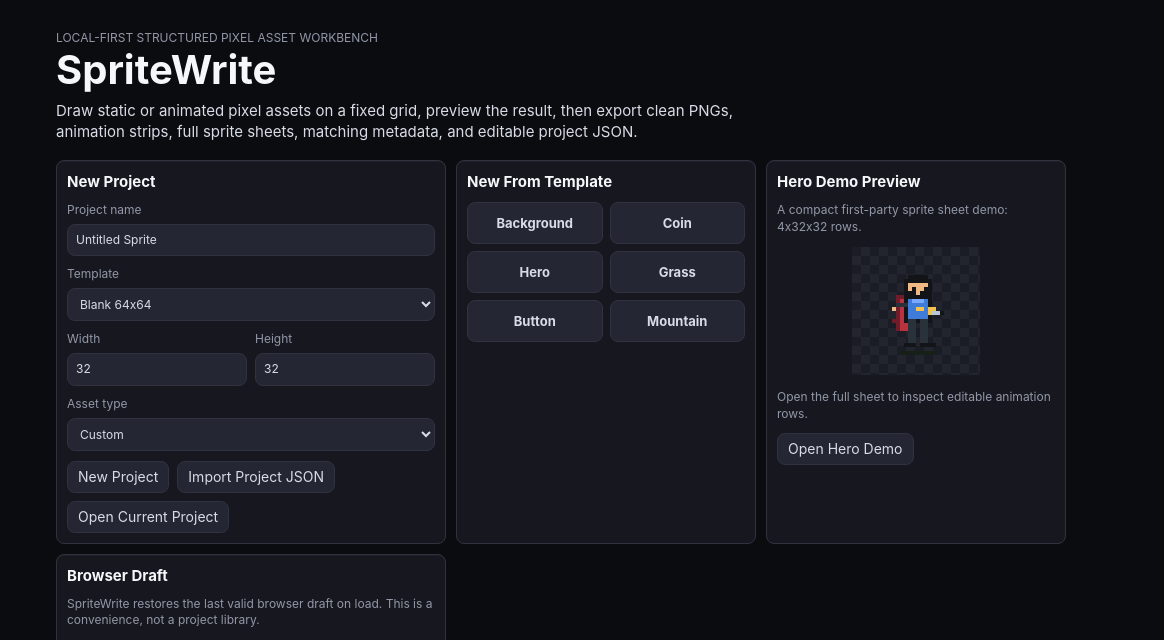
App shell › creates a blank 64x64 project and enters the editor
This screenshot has width=1164, height=640.
Select "Blank 64x64" in the dropdown labelled "Template". click: [251, 305]
box: [67, 288, 435, 321]
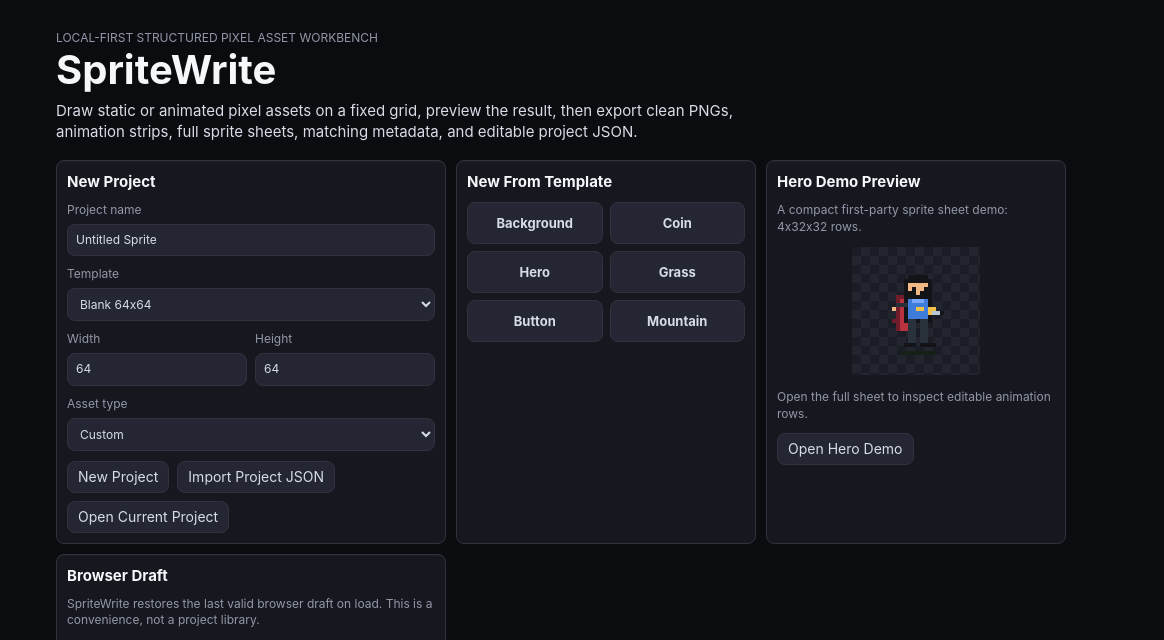
Click the button "New Project". click: [118, 477]
box: [67, 461, 169, 493]
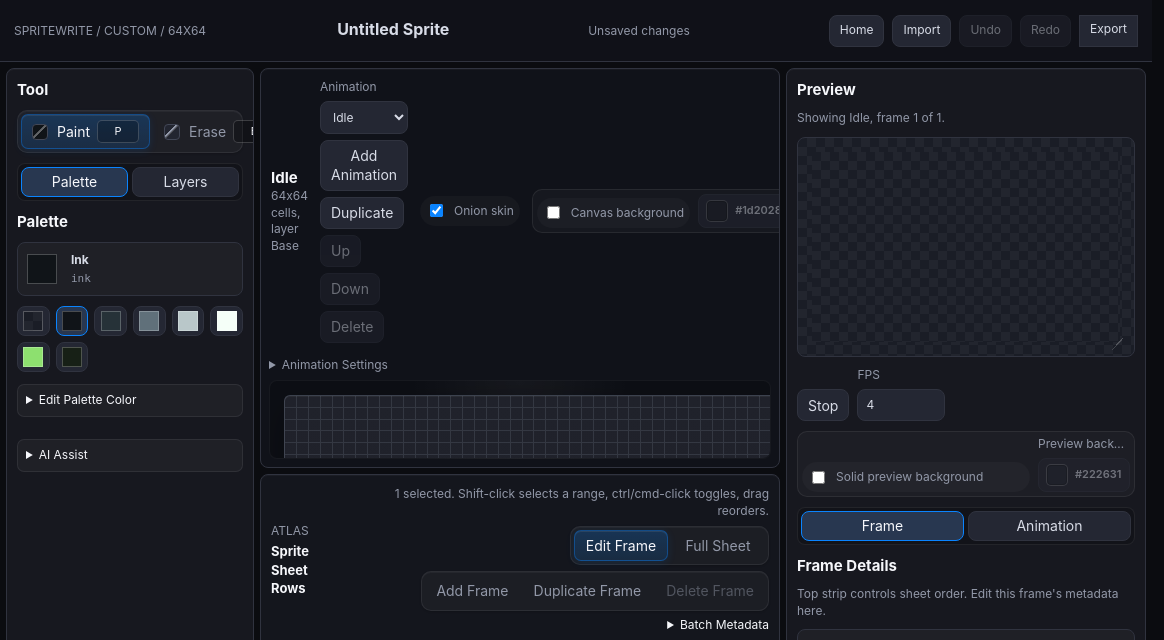
Check: the text "64x64 cells" is shown, box [271, 188, 308, 255]
Check: the text "Sprite Sheet Rows" is shown, box [271, 543, 309, 596]
Check: the text "Frame Details" is shown, box [797, 556, 897, 575]
